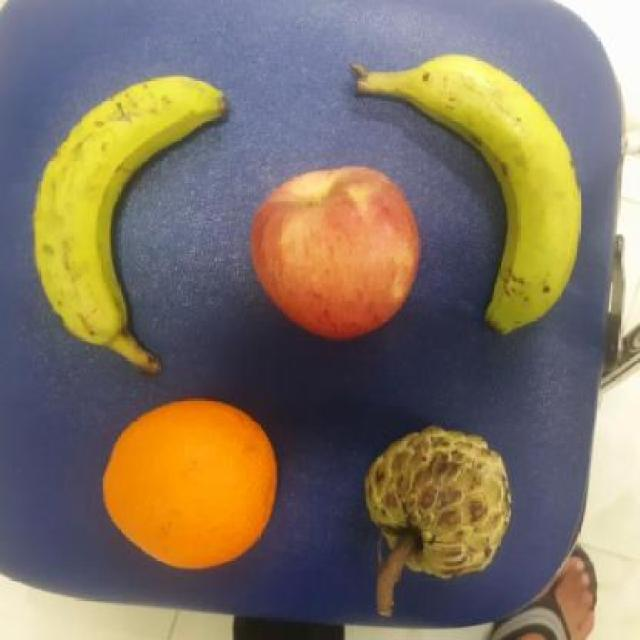apple: (250, 165, 421, 337)
banana: (350, 54, 581, 334), (31, 75, 228, 376)
oren: (100, 399, 278, 573)
sugar apple: (365, 426, 512, 580)
